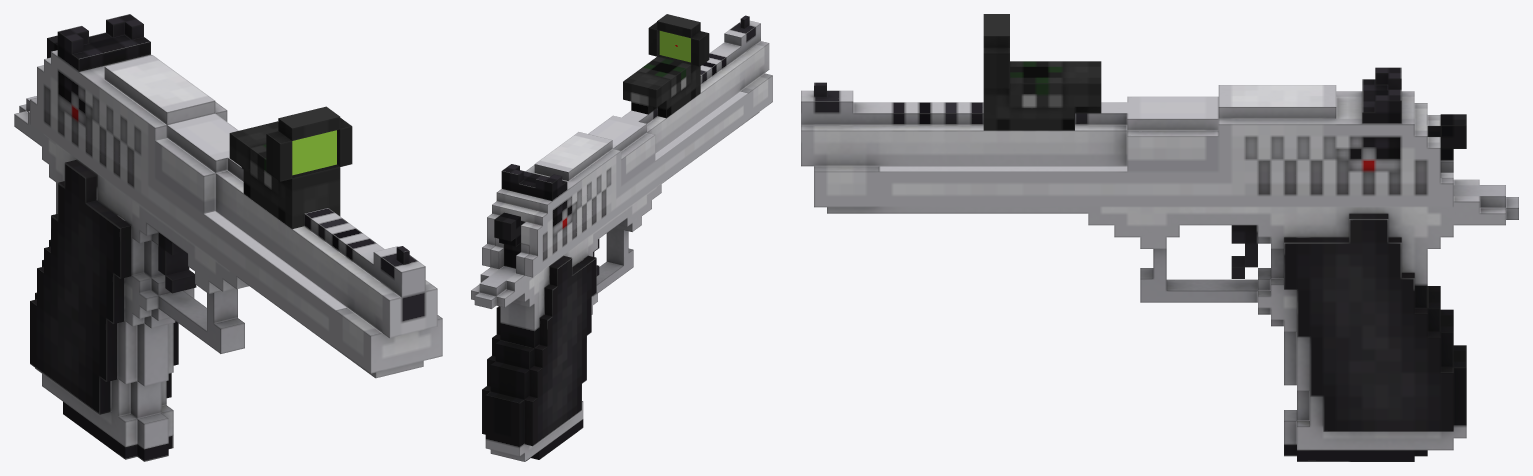
File: RD_DEAGLE.glb
3 views of the same model, side by side, from view 1: azimuth 30°, elevation 25°; view 2: azimuth 150°, elevation 25°; view 3: azimuth 270°, elevation 25° (orthographic). The views are drawn at different scales.
Visible parts, largest first — view 1: DESERT_EAGLE, DESERT_EAGLE_FRAME, SCOPE_AIMPOINT, DESERT_EAGLE_CLIP; view 2: DESERT_EAGLE, DESERT_EAGLE_FRAME, SCOPE_AIMPOINT, DESERT_EAGLE_TRIGGER, DESERT_EAGLE_CLIP; view 3: DESERT_EAGLE, DESERT_EAGLE_FRAME, SCOPE_AIMPOINT, DESERT_EAGLE_CLIP, DESERT_EAGLE_TRIGGER.
Part boxes in pixels (box(x1,y1,x2,y2)): DESERT_EAGLE: box(14, 96, 442, 449); DESERT_EAGLE_FRAME: box(30, 14, 347, 347); SCOPE_AIMPOINT: box(229, 106, 352, 229); DESERT_EAGLE_CLIP: box(63, 402, 173, 461); DESERT_EAGLE: box(471, 15, 772, 461); DESERT_EAGLE_FRAME: box(482, 91, 748, 277); SCOPE_AIMPOINT: box(623, 14, 709, 118); DESERT_EAGLE_TRIGGER: box(494, 212, 525, 268); DESERT_EAGLE_CLIP: box(525, 419, 583, 461); DESERT_EAGLE: box(801, 82, 1518, 450); DESERT_EAGLE_FRAME: box(879, 67, 1453, 207); SCOPE_AIMPOINT: box(983, 14, 1101, 130); DESERT_EAGLE_CLIP: box(1284, 444, 1427, 461); DESERT_EAGLE_TRIGGER: box(1427, 114, 1466, 160).
Bounding box in the file's own units: 0.0591 × 0.3543 × 0.5413.
Materials: 3 (3 with a texture image).
